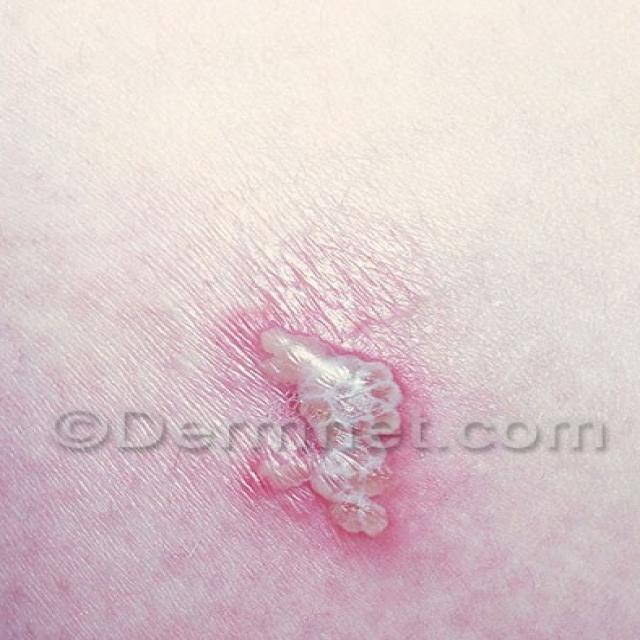Viral Infections: (207, 222, 467, 543)
